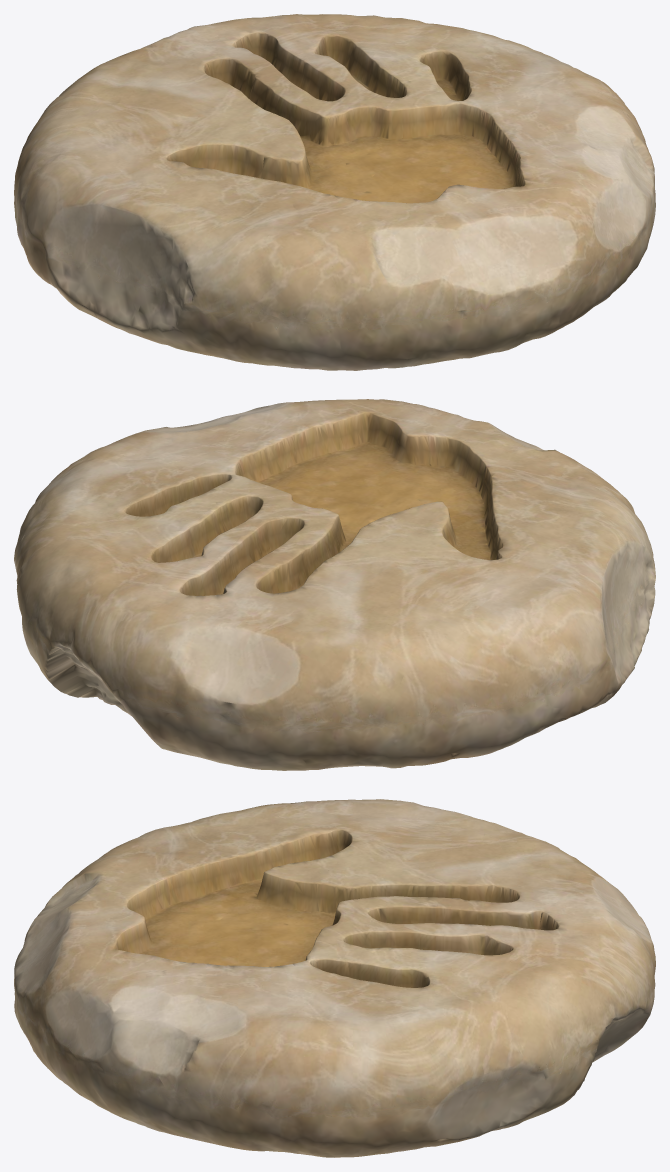
Rendered from opmet-coin_alabaster.glb.
3 renders of one model, top to bottom at view 1: azimuth 30°, elevation 25°; view 2: azimuth 150°, elevation 25°; view 3: azimuth 270°, elevation 25°, orthographic. The views are drawn at different scales.
Visible parts, largest first — view 1: alabaster; view 2: alabaster; view 3: alabaster.
Part boxes in pixels (x1,y1,x2,y2): alabaster: (14, 14, 655, 370); alabaster: (14, 399, 655, 770); alabaster: (14, 799, 655, 1157).
Size of the model in its own units: 2.03 by 0.5109 by 2.03.
Materials: 1 (1 with a texture image).
